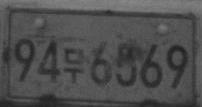4: (36, 39, 61, 84)
5: (116, 43, 137, 86)
6: (89, 41, 113, 85), (139, 44, 163, 88)
9: (165, 43, 190, 89), (13, 37, 35, 81)
무: (63, 48, 85, 82)
